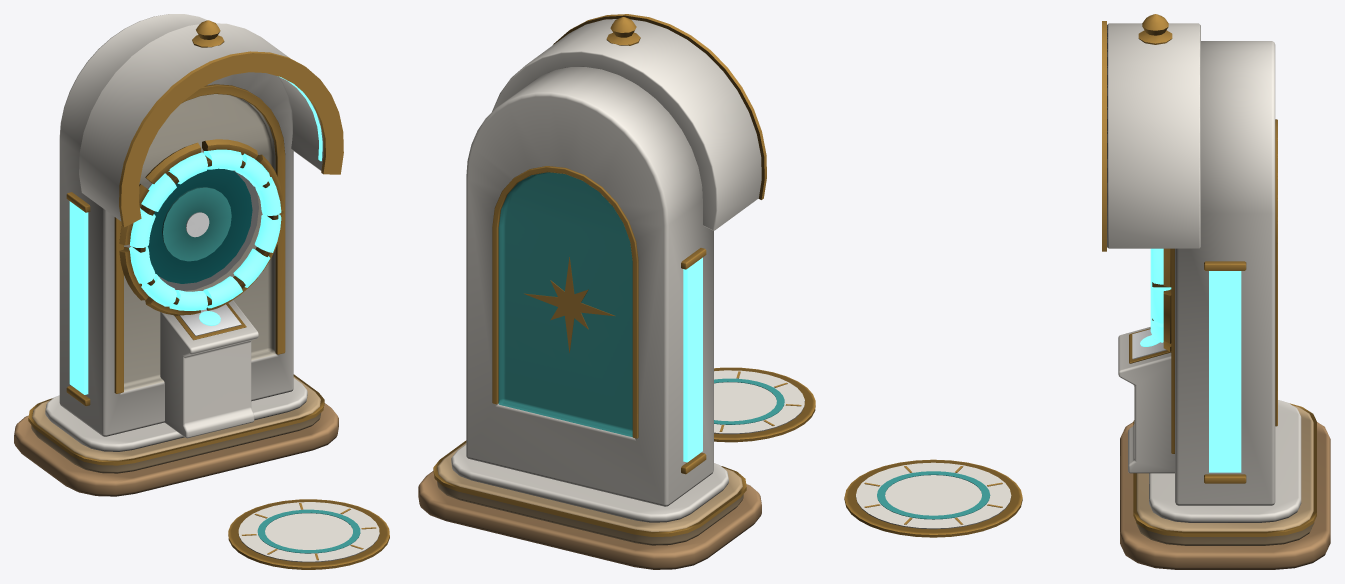
Rendered from foldstation_kiosk.fbx.
The picture shows the model from 3 angles, left to right: view 1: azimuth 30°, elevation 25°; view 2: azimuth 150°, elevation 25°; view 3: azimuth 270°, elevation 25°; orthographic projection. The views are drawn at different scales.
Parts seen in each view (by area): view 1: foldstation_kiosk, LensRing; view 2: foldstation_kiosk; view 3: foldstation_kiosk, LensRing.
Boxes of the visible parts, x1,y1,x2,y2 form: foldstation_kiosk: (14,14,389,569); LensRing: (129,149,281,310); foldstation_kiosk: (418,14,815,569); foldstation_kiosk: (844,14,1330,569); LensRing: (1150,248,1171,342).
Size of the model in its own units: 2.1 by 3.31 by 3.
